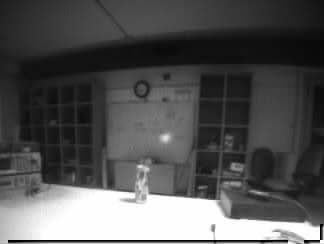Tin can: (134, 165, 149, 202)
